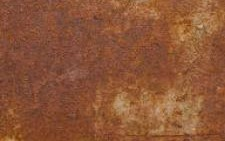Corrosion: (1, 1, 225, 141)
